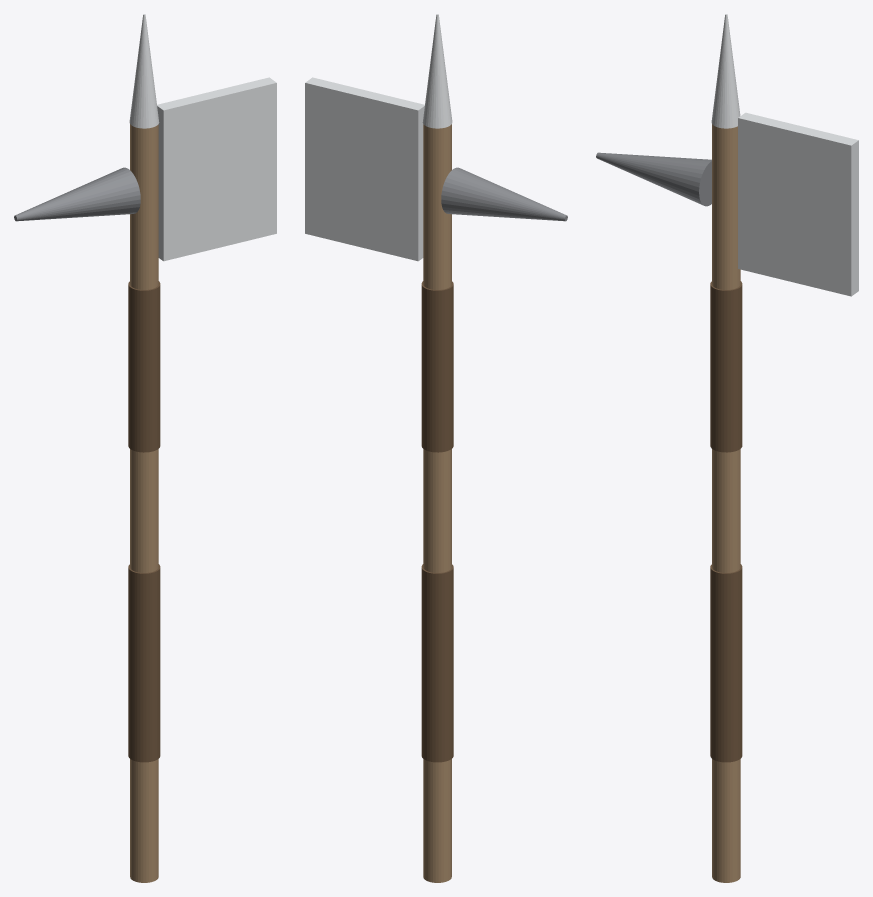
The model's file is great_axe.glb.
3 renders of one model, left to right at view 1: azimuth 30°, elevation 25°; view 2: azimuth 150°, elevation 25°; view 3: azimuth 330°, elevation 25°, orthographic.
Parts seen in each view (by area): view 1: GreatAxe; view 2: GreatAxe; view 3: GreatAxe.
Part boxes in pixels (x1,y1,x2,y2): GreatAxe: (14,14,276,882); GreatAxe: (305,14,567,882); GreatAxe: (596,14,858,882).
Bounding box in the file's own units: 0.5 × 1.6 × 0.08.
